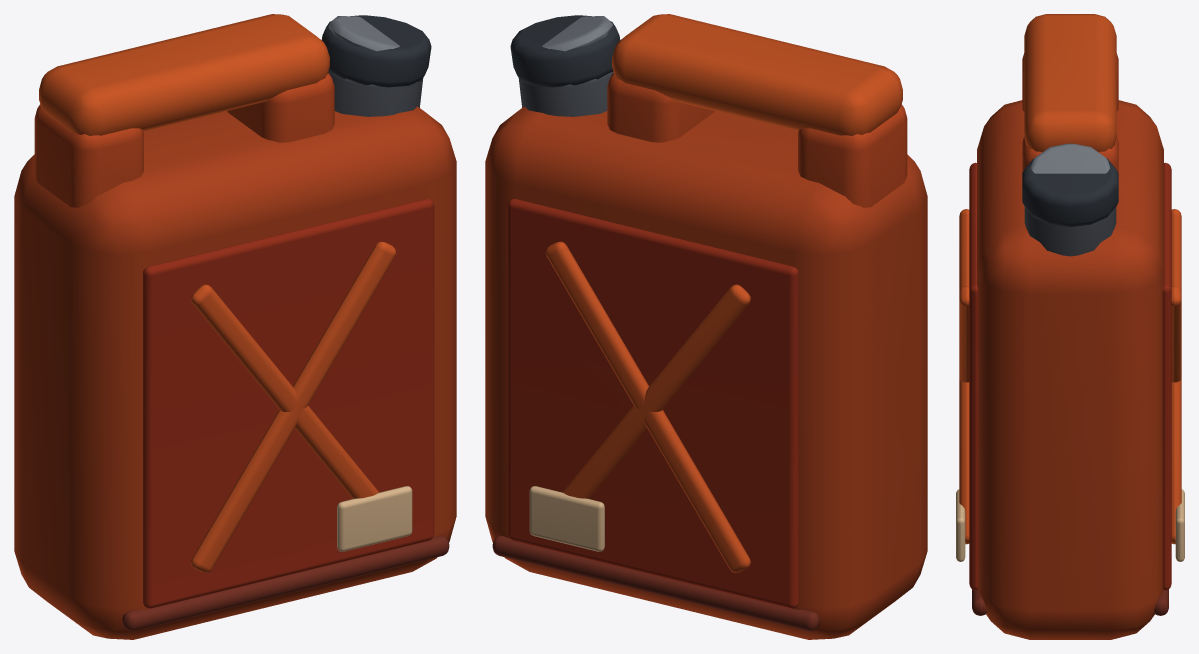
Rendered from fuel_canister.glb.
3 views of the same model, side by side, from view 1: azimuth 30°, elevation 25°; view 2: azimuth 150°, elevation 25°; view 3: azimuth 270°, elevation 25° (orthographic). The views are drawn at different scales.
Parts seen in each view (by area): view 1: fuel_canister; view 2: fuel_canister; view 3: fuel_canister.
Boxes of the visible parts, bbox=[...] form: fuel_canister: bbox=[14, 14, 456, 639]; fuel_canister: bbox=[485, 14, 927, 639]; fuel_canister: bbox=[956, 14, 1184, 639].
Size of the model in its own units: 0.47 by 0.6434 by 0.273.
